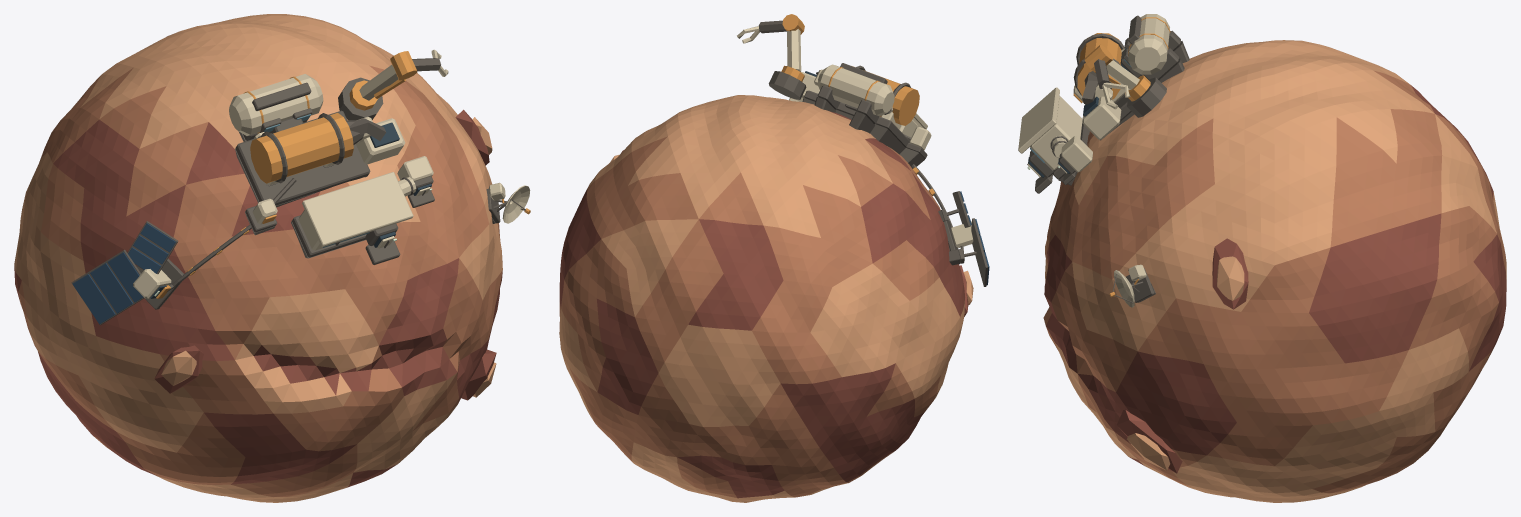
The model's file is Mars.glb.
The picture shows the model from 3 angles, left to right: view 1: azimuth 30°, elevation 25°; view 2: azimuth 150°, elevation 25°; view 3: azimuth 270°, elevation 25°; orthographic projection. The views are drawn at different scales.
Visible parts, largest first — view 1: S2_Mars • modeled surfaces; view 2: S2_Mars • modeled surfaces; view 3: S2_Mars • modeled surfaces.
Part boxes in pixels (x1,y1,x2,y2): S2_Mars • modeled surfaces: (14, 14, 530, 502); S2_Mars • modeled surfaces: (559, 14, 989, 502); S2_Mars • modeled surfaces: (1018, 14, 1506, 502).
Bounding box in the file's own units: 1.73 × 1.82 × 1.74.
